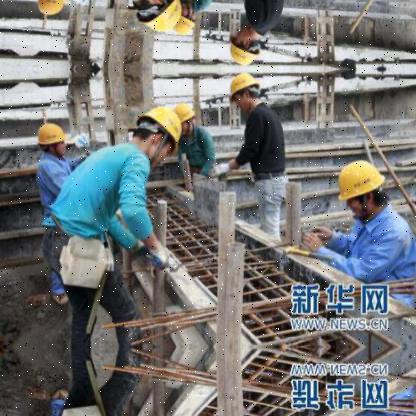Helmet: (334, 154, 394, 220), (142, 100, 177, 171), (127, 0, 184, 36), (222, 29, 266, 71), (230, 70, 268, 115), (38, 119, 76, 160), (26, 0, 66, 21), (170, 96, 198, 126), (172, 10, 200, 36)
